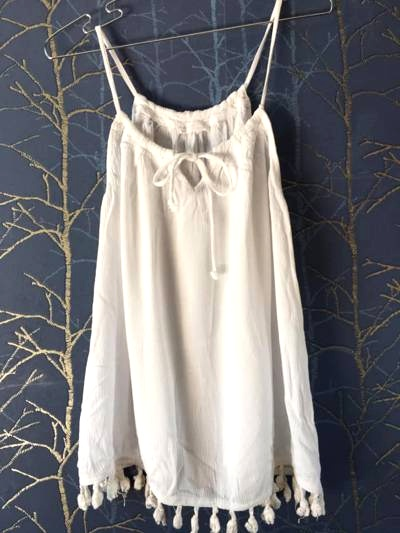Dress: (50, 21, 346, 531)
